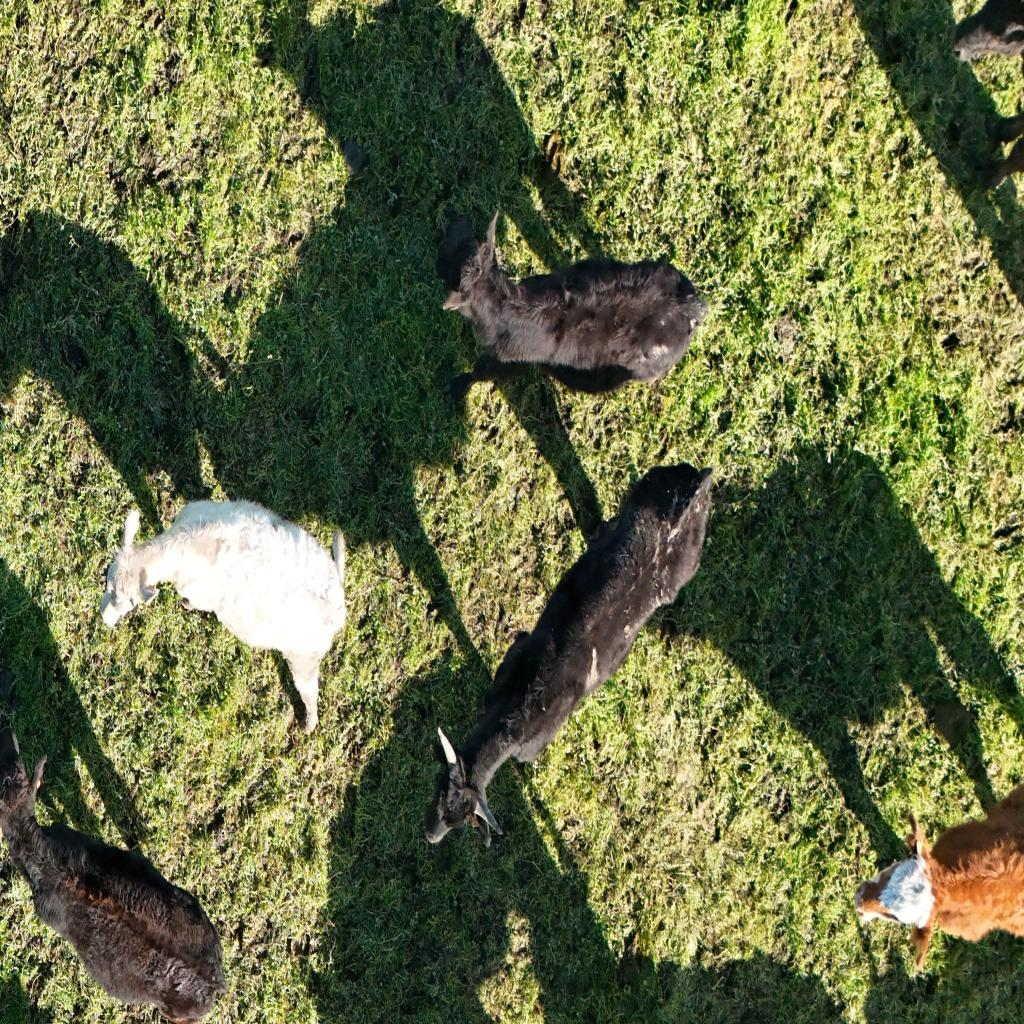cow: (414, 447, 704, 845), (0, 718, 235, 1016), (100, 488, 350, 736), (432, 200, 714, 404), (852, 774, 1024, 980)
